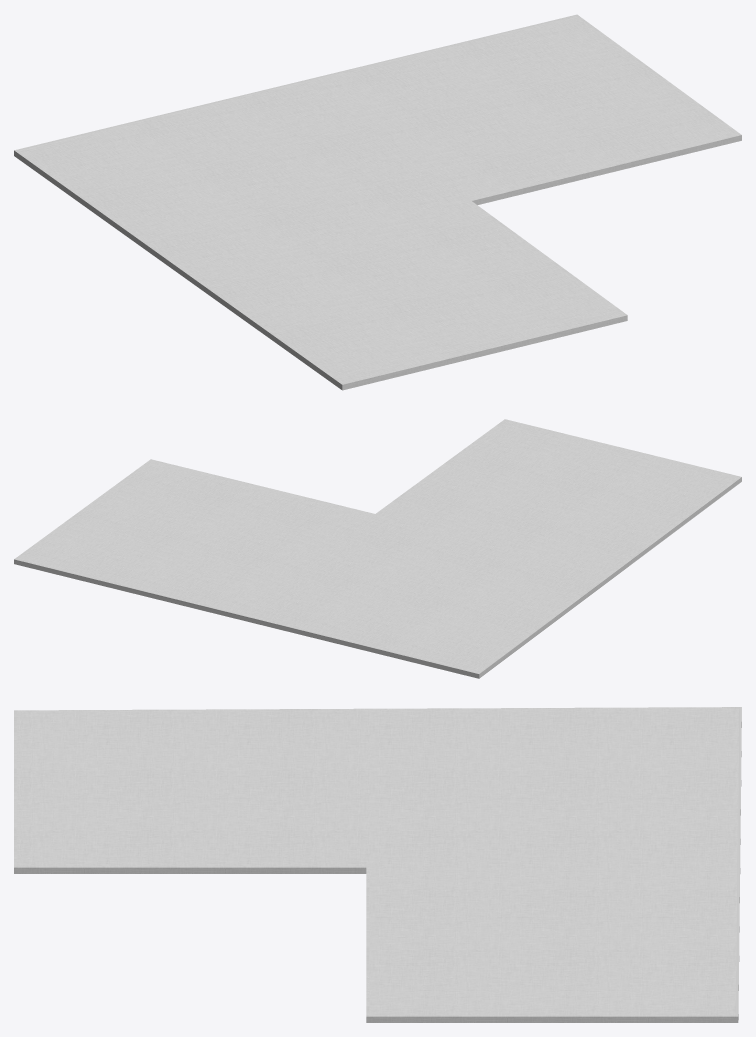
The picture shows the model from 3 angles, top to bottom: view 1: azimuth 30°, elevation 25°; view 2: azimuth 150°, elevation 25°; view 3: azimuth 270°, elevation 25°; orthographic projection. The views are drawn at different scales.
Parts seen in each view (by area): view 1: Ceiling#0_3; view 2: Ceiling#0_3; view 3: Ceiling#0_3.
Boxes of the visible parts, left/top/right/bottom form: Ceiling#0_3: left=14, top=14, right=741, bottom=390; Ceiling#0_3: left=14, top=419, right=741, bottom=678; Ceiling#0_3: left=14, top=707, right=741, bottom=1022.
Size of the model in its own units: 5.2 by 0.05 by 5.16.
1 material, 1 textured.
